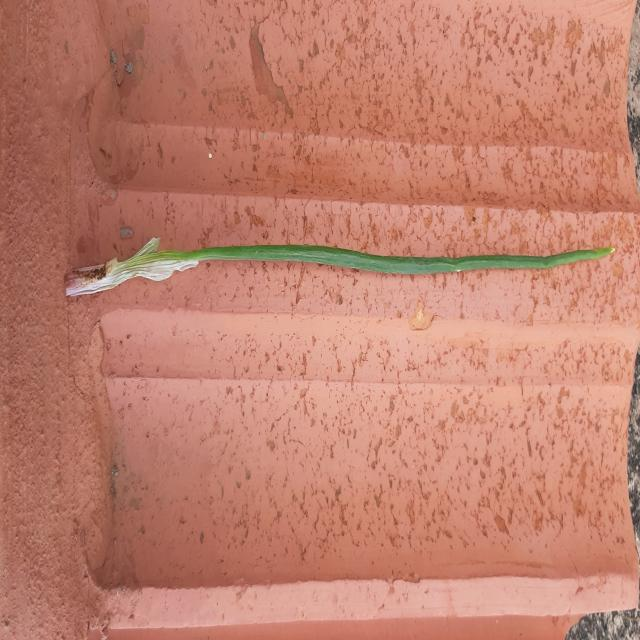onion: (65, 238, 614, 295)
